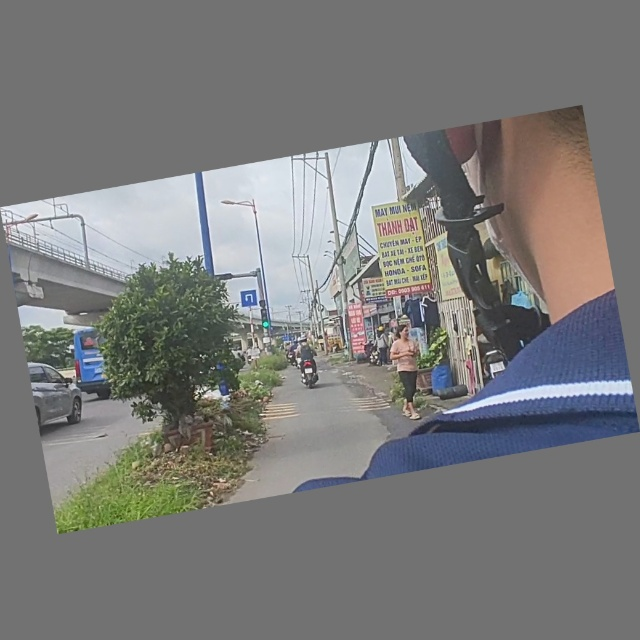I.409: (239, 288, 261, 310)
